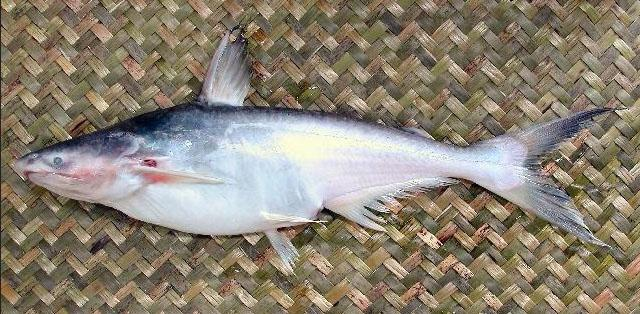Mulut: (12, 146, 78, 200)
Sirip Anal: (320, 163, 482, 239)
Sirip Dada: (134, 157, 228, 201)
Sirip Ekor: (496, 98, 628, 262)
Sirip Perut: (252, 205, 326, 275)
Sirip Punggung: (190, 21, 266, 115)
